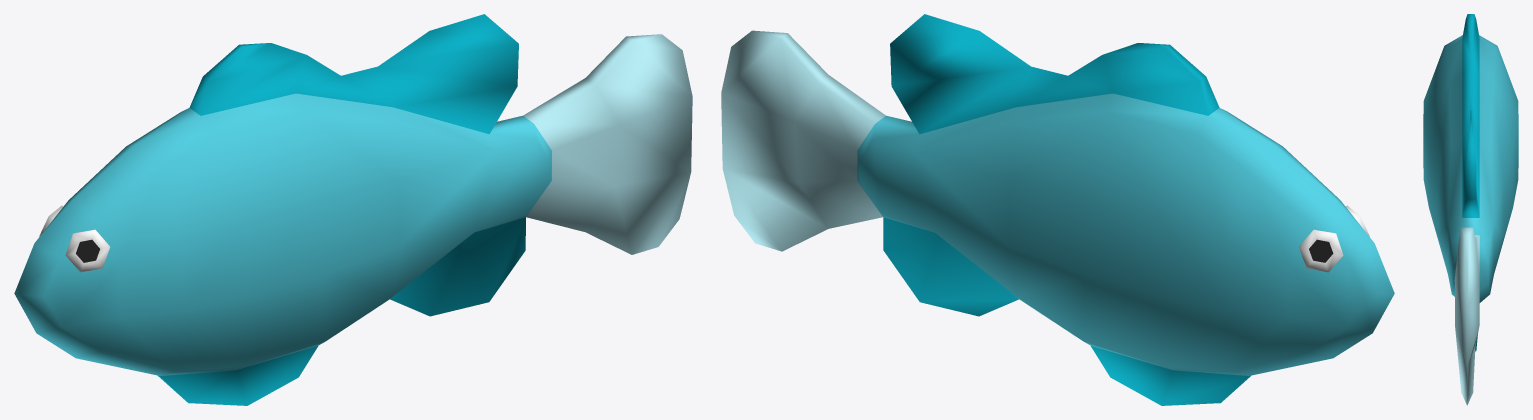
Rendered from Fish_012.fbx.
The picture shows the model from 3 angles, left to right: view 1: azimuth 30°, elevation 25°; view 2: azimuth 150°, elevation 25°; view 3: azimuth 270°, elevation 25°; orthographic projection. The views are drawn at different scales.
Parts seen in each view (by area): view 1: Fish_012; view 2: Fish_012; view 3: Fish_012.
Part boxes in pixels (x1=…): Fish_012: x1=14, y1=14, x2=692, y2=405; Fish_012: x1=721, y1=14, x2=1394, y2=405; Fish_012: x1=1423, y1=14, x2=1518, y2=405.
Bounding box in the file's own units: 55.17 × 8.62 × 28.16.
Materials: 1 (1 with a texture image).
